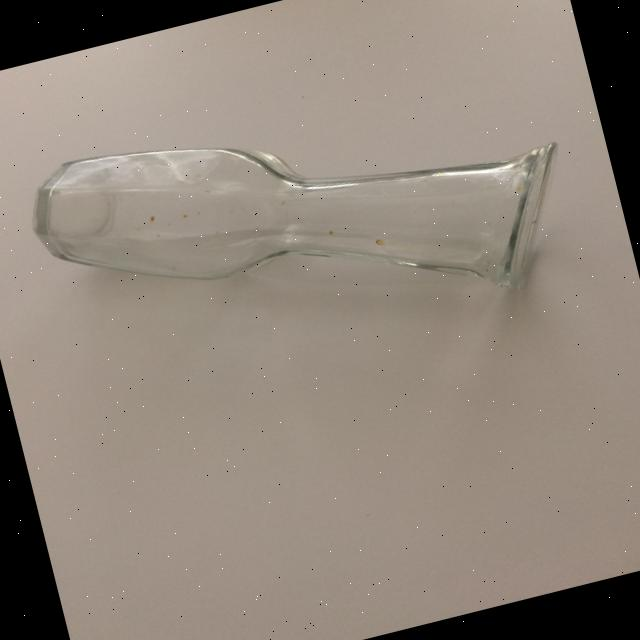glass: (1, 38, 594, 401)
